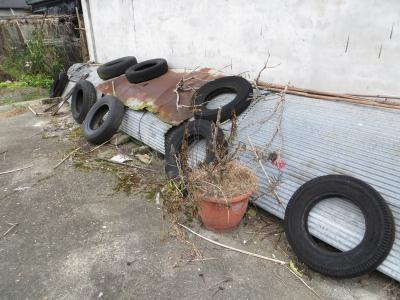tire: (281, 172, 396, 281), (165, 118, 228, 192), (188, 73, 255, 122), (82, 94, 127, 147), (123, 57, 171, 85), (70, 78, 98, 125), (95, 54, 139, 81), (49, 72, 70, 98)
